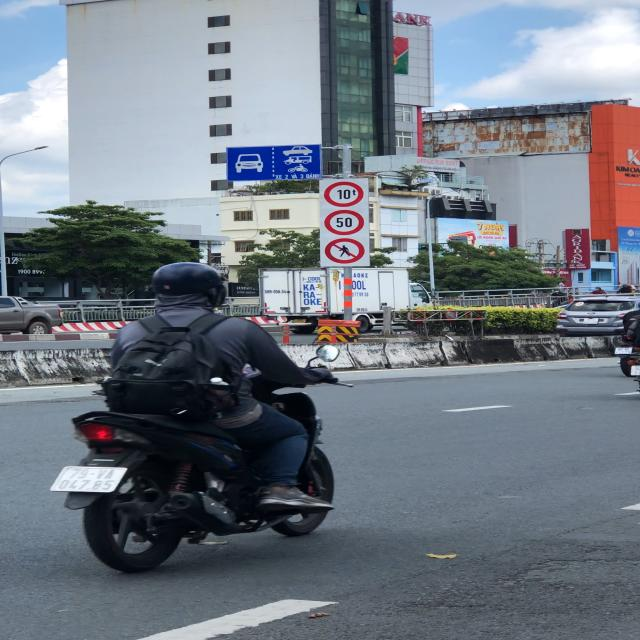Bien bao cam nguoi di bo: (323, 237, 366, 263)
Bien bao toc do toi da cho phep: (324, 209, 365, 237)
